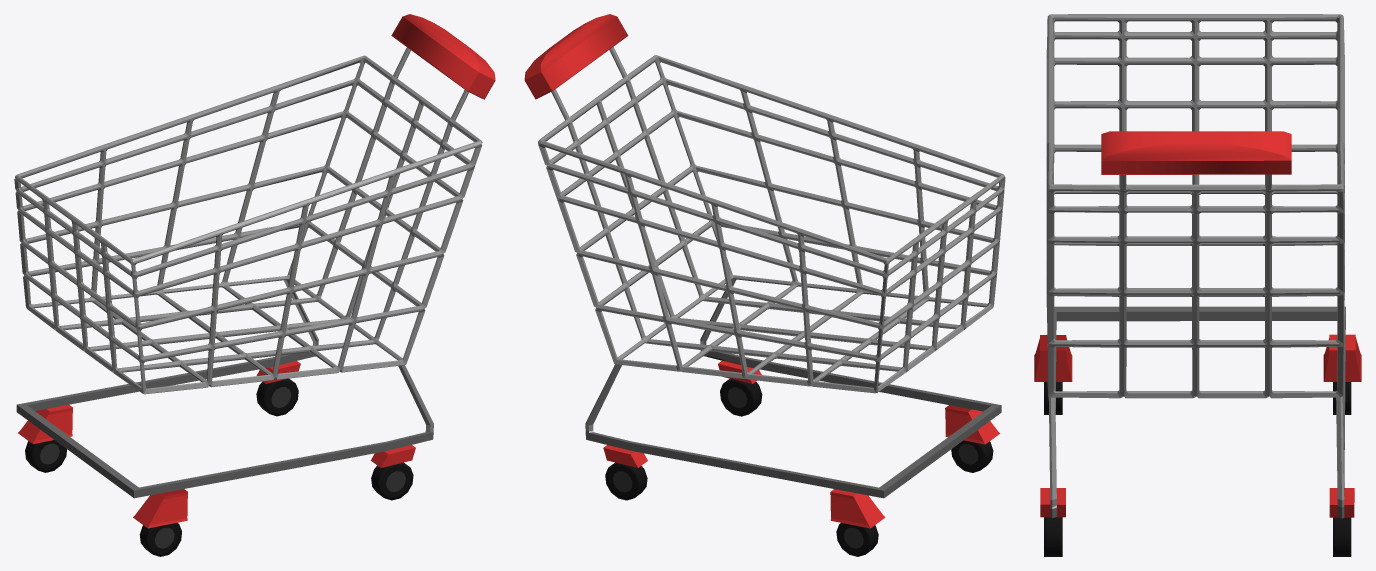
File: cart.fbx
3 views of the same model, side by side, from view 1: azimuth 30°, elevation 25°; view 2: azimuth 150°, elevation 25°; view 3: azimuth 270°, elevation 25° (orthographic). The views are drawn at different scales.
Visible parts, largest first — view 1: cart; view 2: cart; view 3: cart.
Part boxes in pixels (x1,y1,x2,y2): cart: (14, 14, 495, 556); cart: (524, 14, 1005, 556); cart: (1034, 14, 1361, 556).
Bounding box in the file's own units: 98.58 × 94.9 × 57.21.
